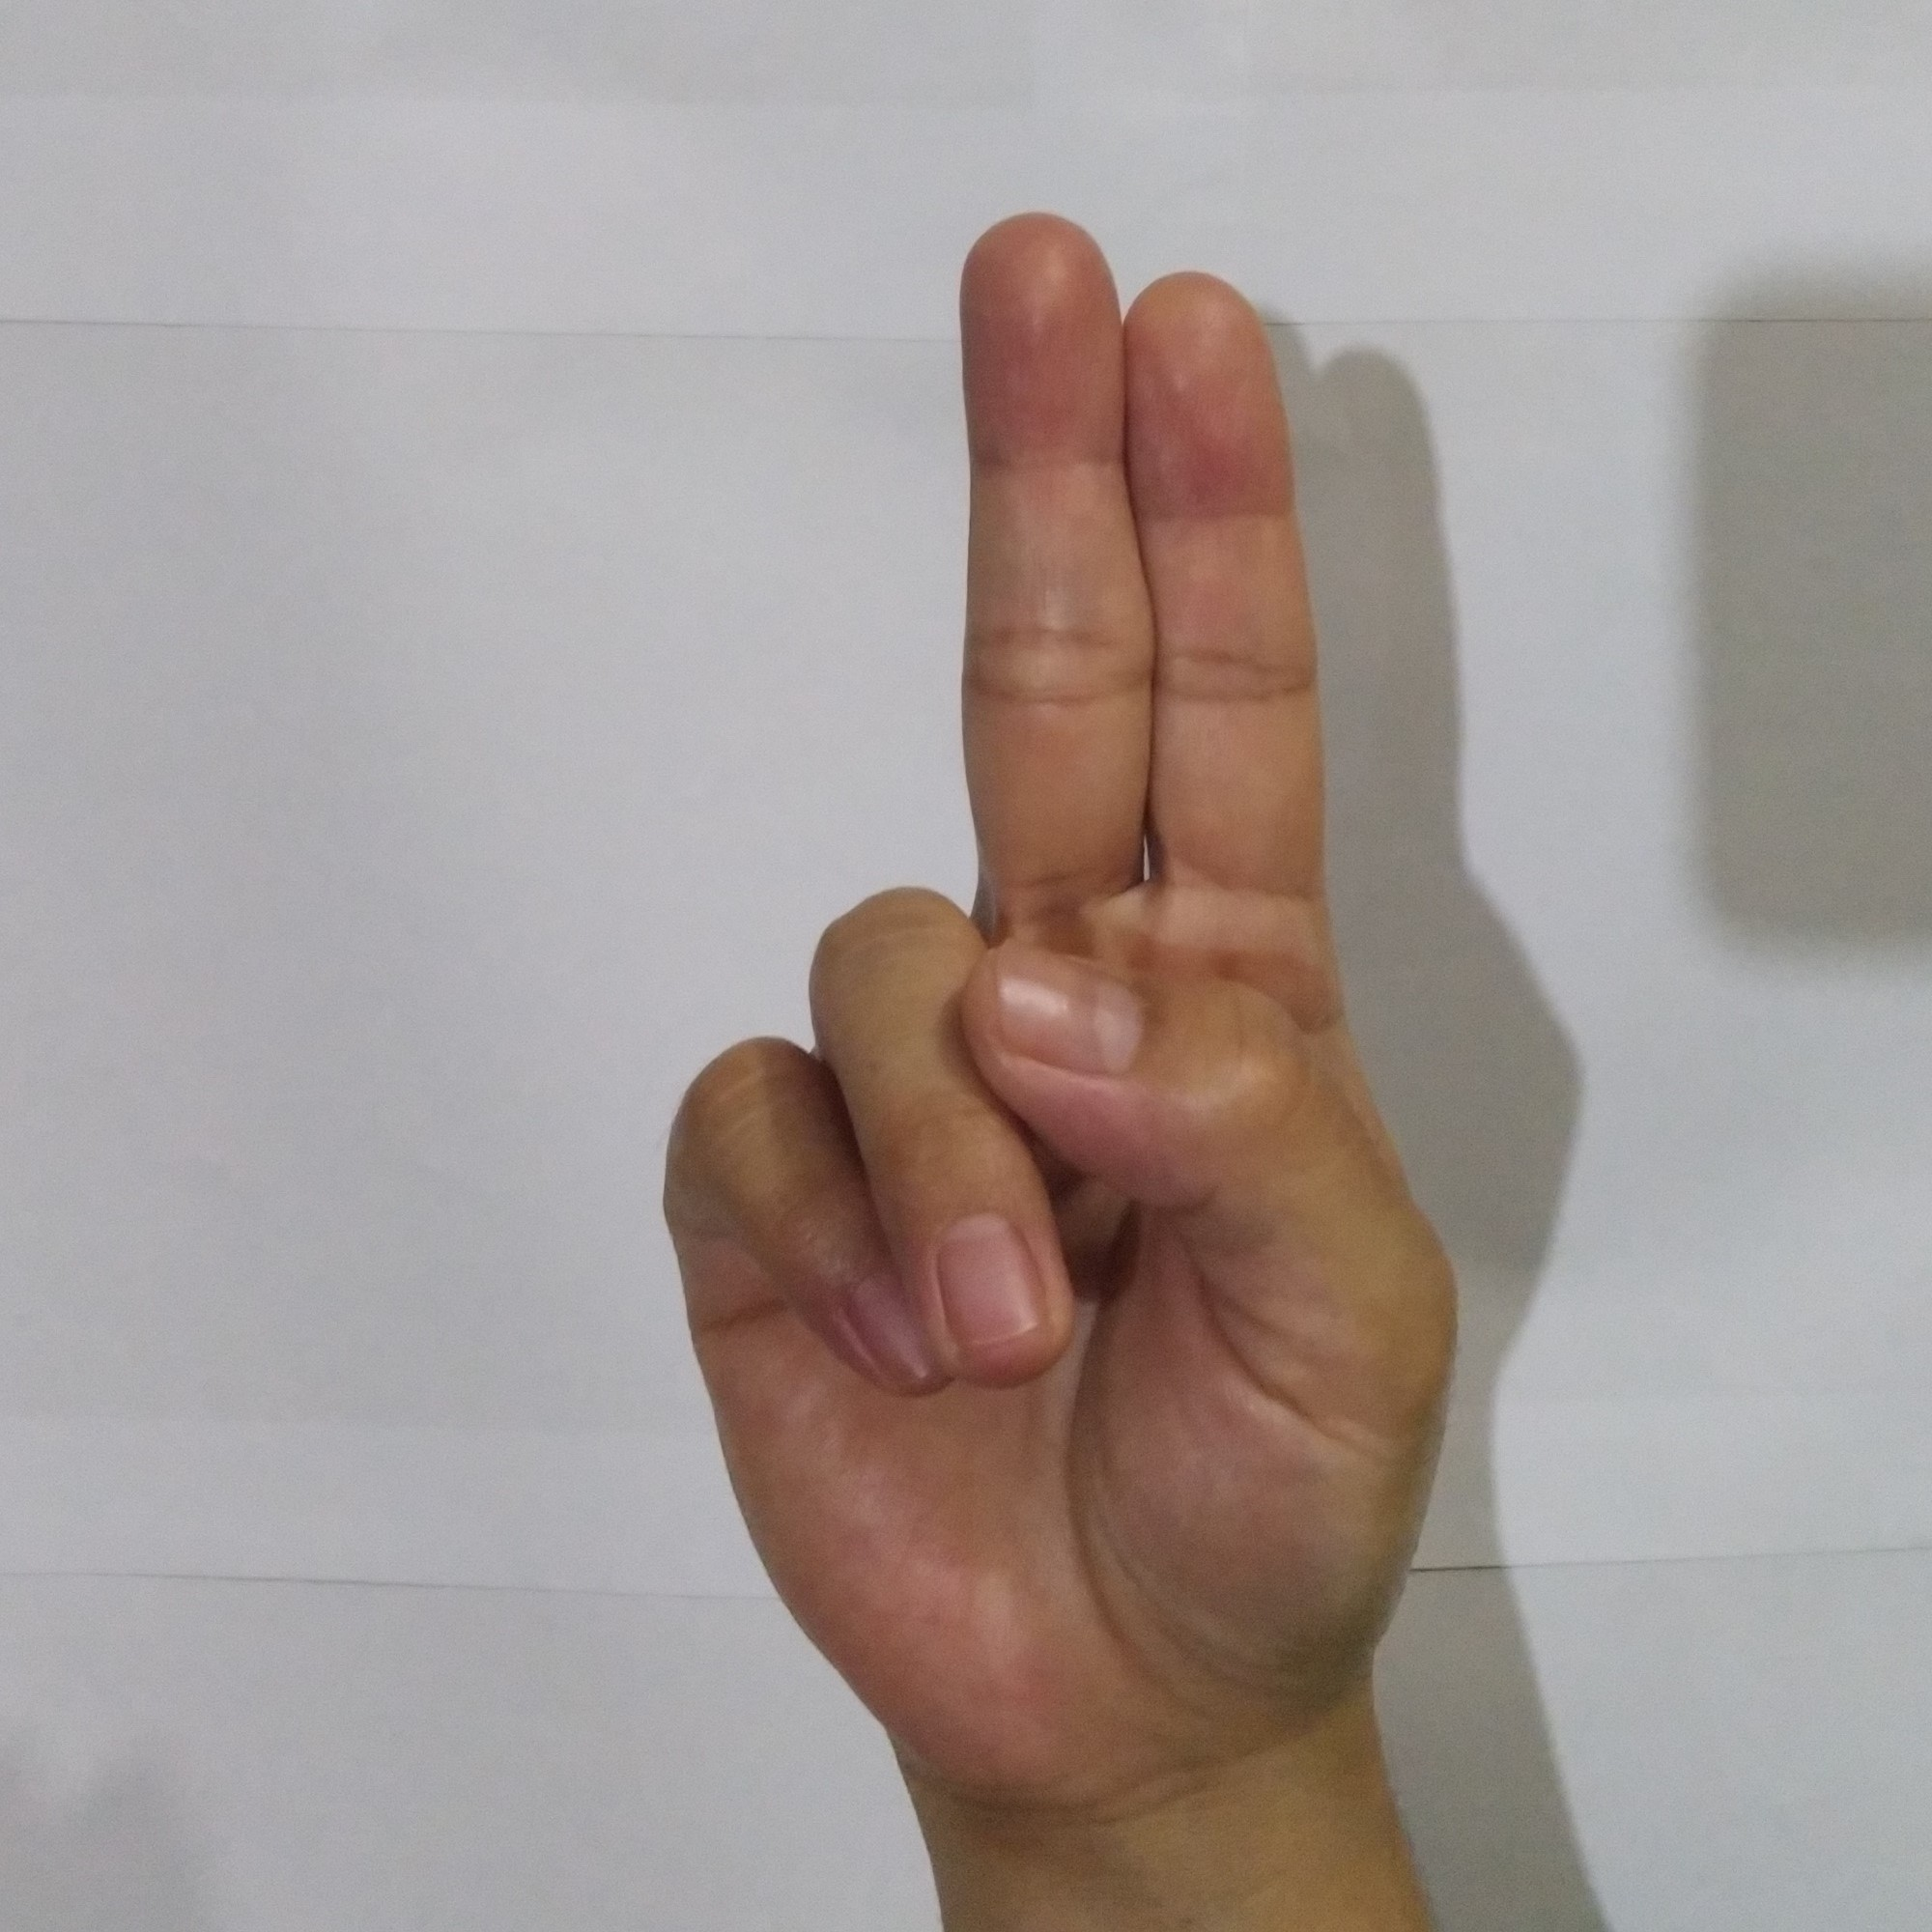U: (635, 186, 1488, 1753)
